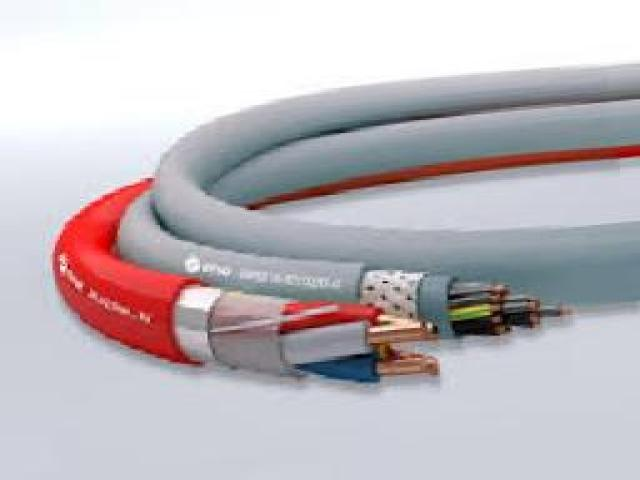wire: (52, 64, 640, 379)
